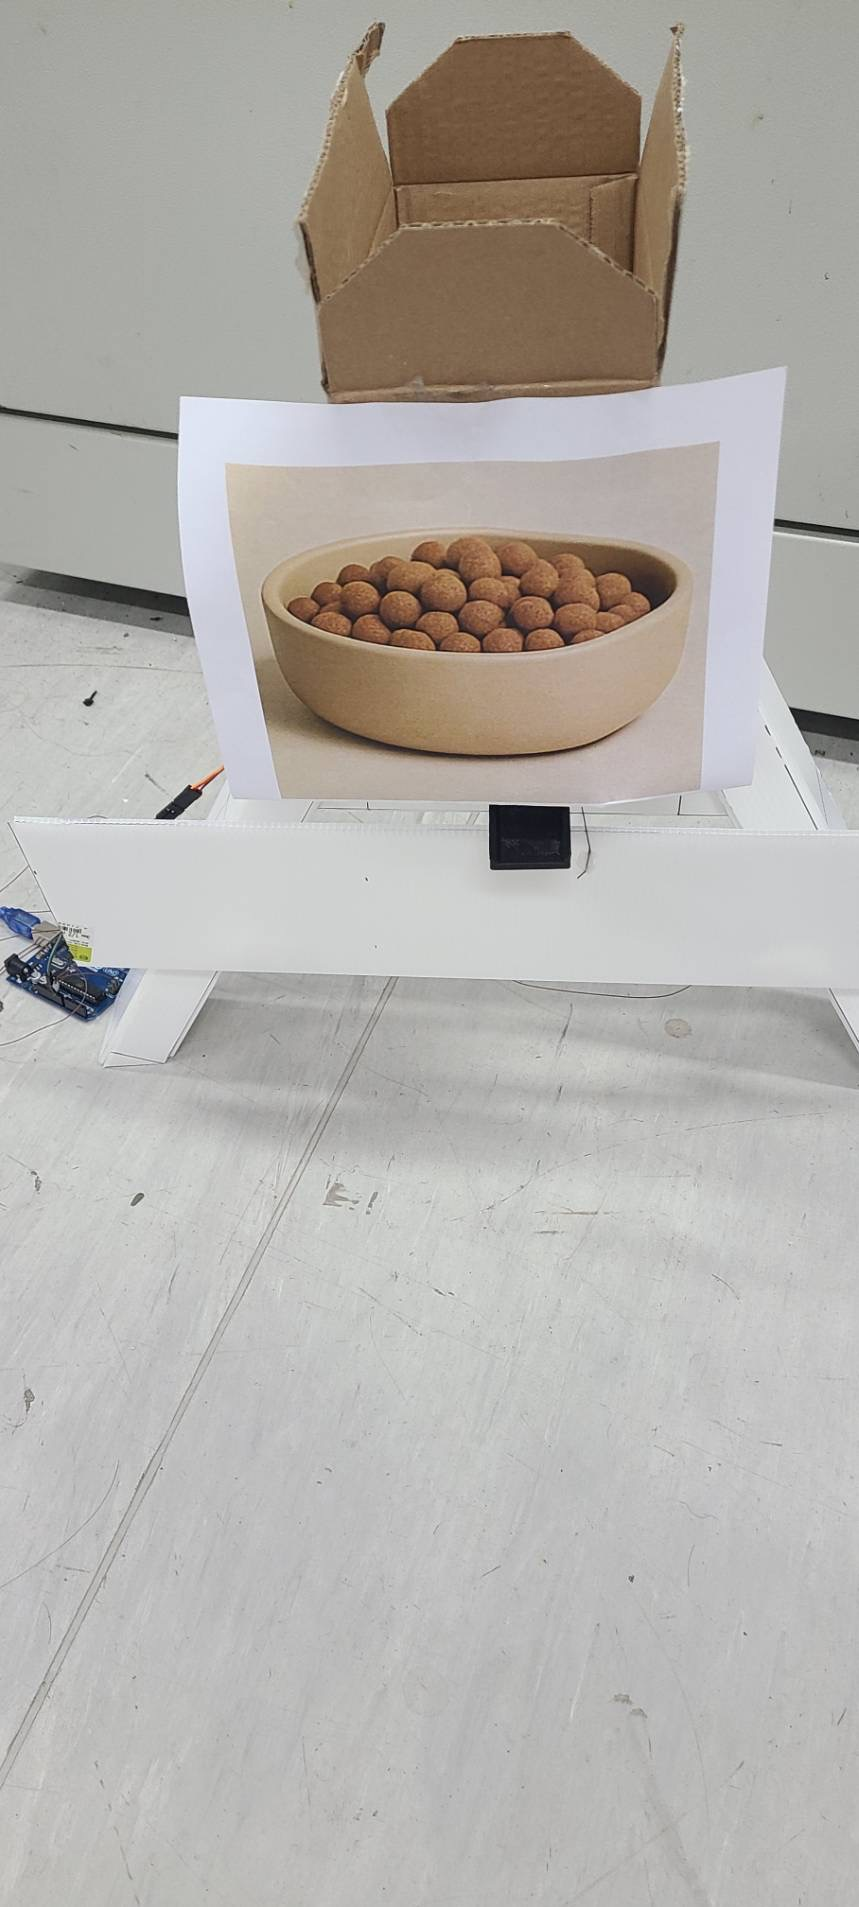machine: (249, 521, 696, 758)
